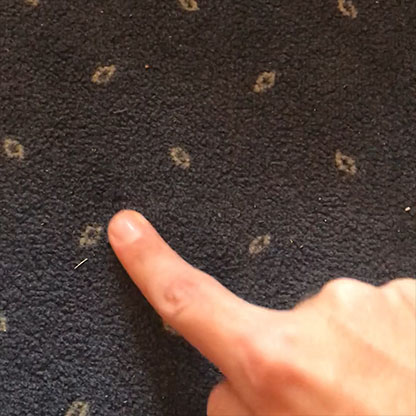fingertip: (104, 204, 153, 253)
